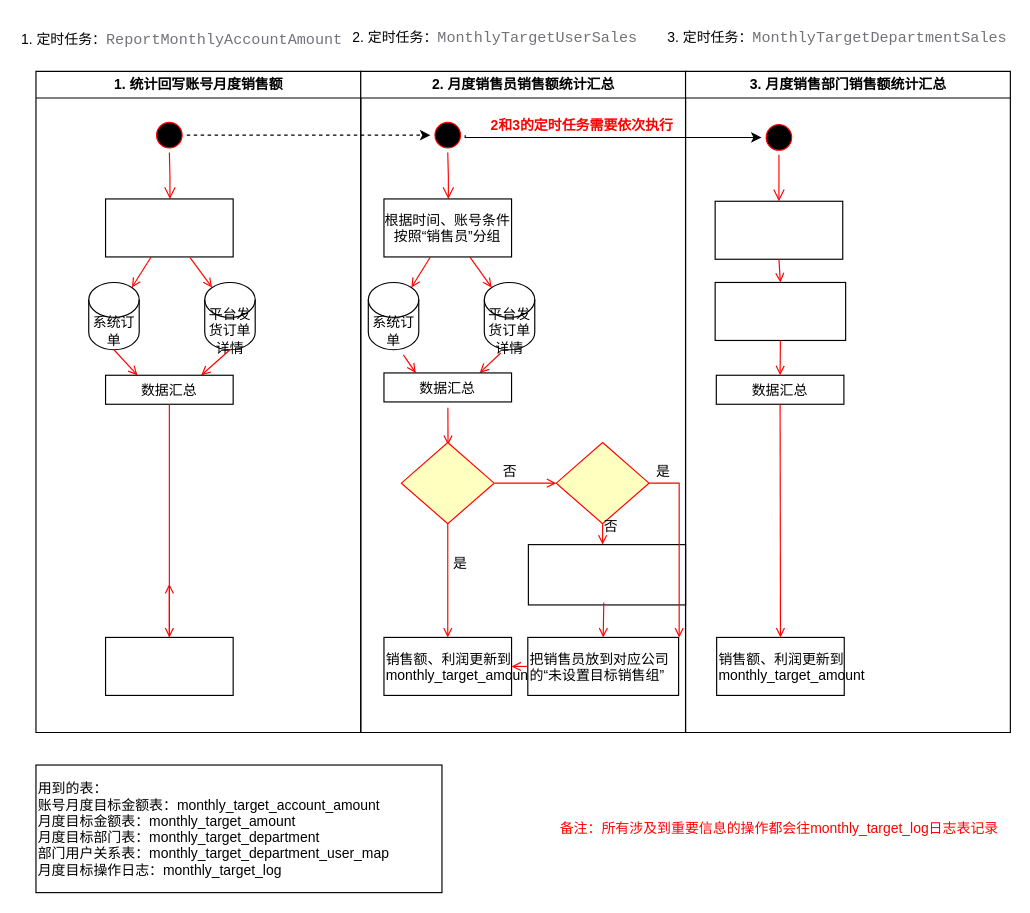
Some shapes in this 1030 by 913 pixel diagram are drawn without their labels. Here are the shapes that lost their labels. From the top down, the centre of each, then its label:
point 168,227: 获取销售员名下 所有账号
point 778,229: 获取所有部门
point 780,310: 逐个层级部门获取 销售员数据
point 447,482: 销售员 是否存在
point 602,482: 所属公司架构 是否存在
point 606,574: 新建部门架构写入表 monthly_target_department monthly_target_department_user_map
point 168,665: 汇总整理后写入到 monthly_target_account_amount
